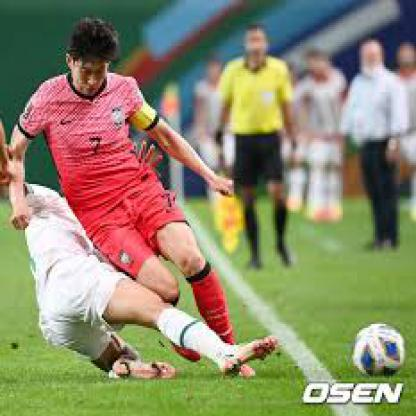Fall_Down: (8, 20, 258, 382)
